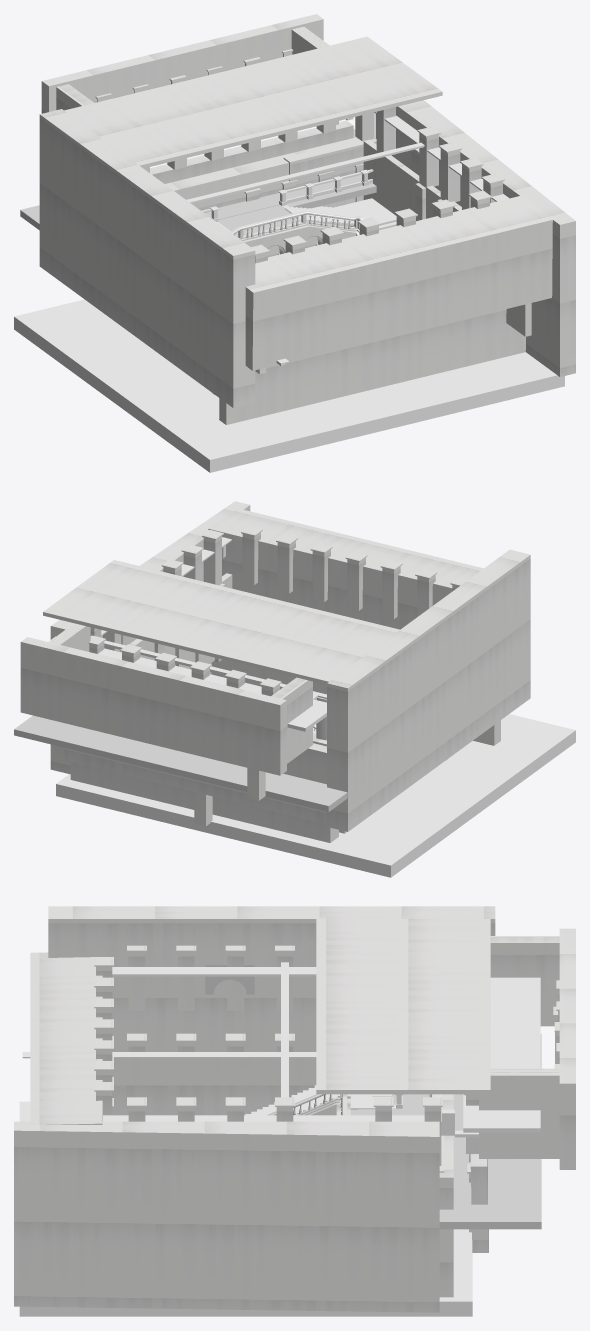
The model's file is Level_Test1.fbx.
3 views of the same model, one above another, from view 1: azimuth 30°, elevation 25°; view 2: azimuth 150°, elevation 25°; view 3: azimuth 270°, elevation 25° (orthographic). The views are drawn at different scales.
Visible parts, largest first — view 1: pb_pb_Cube_1592364_917410, pb_Cube_342412, pb_Stairs_409157, Cylinder_040, Cube; view 2: pb_pb_Cube_1592364_917410, pb_Stairs_409157, pb_Cube_342412, Cylinder_040; view 3: pb_Cube_342412, pb_pb_Cube_1592364_917410, pb_Stairs_409157, Cylinder_040, Cube.
Boxes of the visible parts, left/top/right/bottom form: pb_pb_Cube_1592364_917410: left=39, top=14, right=531, bottom=407; pb_Cube_342412: left=219, top=100, right=575, bottom=424; pb_Stairs_409157: left=14, top=111, right=564, bottom=472; Cylinder_040: left=20, top=129, right=376, bottom=238; Cube: left=218, top=204, right=363, bottom=254; pb_pb_Cube_1592364_917410: left=20, top=526, right=530, bottom=842; pb_Stairs_409157: left=48, top=537, right=575, bottom=877; pb_Cube_342412: left=50, top=501, right=500, bottom=833; Cylinder_040: left=14, top=697, right=347, bottom=811; pb_Cube_342412: left=14, top=952, right=557, bottom=1312; pb_pb_Cube_1592364_917410: left=48, top=906, right=575, bottom=1297; pb_Stairs_409157: left=19, top=962, right=540, bottom=1316; Cylinder_040: left=205, top=965, right=541, bottom=1229; Cube: left=267, top=1094, right=374, bottom=1115.
Size of the model in its own units: 30.39 by 15.61 by 34.18.
7 materials, 7 textured.
